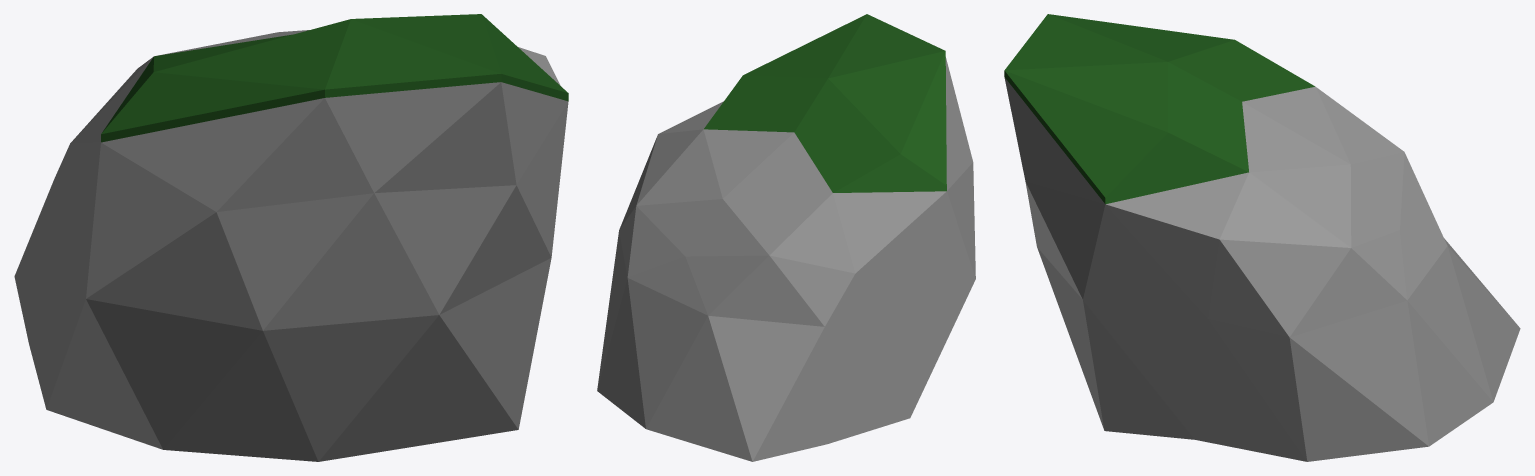
File: Rock.fbx
3 views of the same model, side by side, from view 1: azimuth 30°, elevation 25°; view 2: azimuth 150°, elevation 25°; view 3: azimuth 270°, elevation 25° (orthographic). The views are drawn at different scales.
Visible parts, largest first — view 1: Rock; view 2: Rock; view 3: Rock.
Part boxes in pixels (x1,y1,x2,y2): Rock: [14, 14, 568, 461]; Rock: [597, 14, 975, 461]; Rock: [1004, 14, 1520, 461].
Size of the model in its own units: 193 by 160 by 227.
